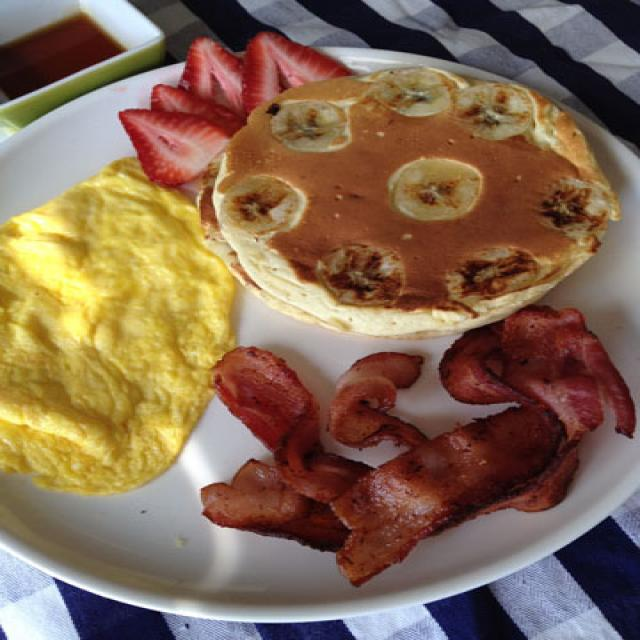Omelette: (2, 165, 226, 495)
Pancakes: (210, 74, 601, 322)
